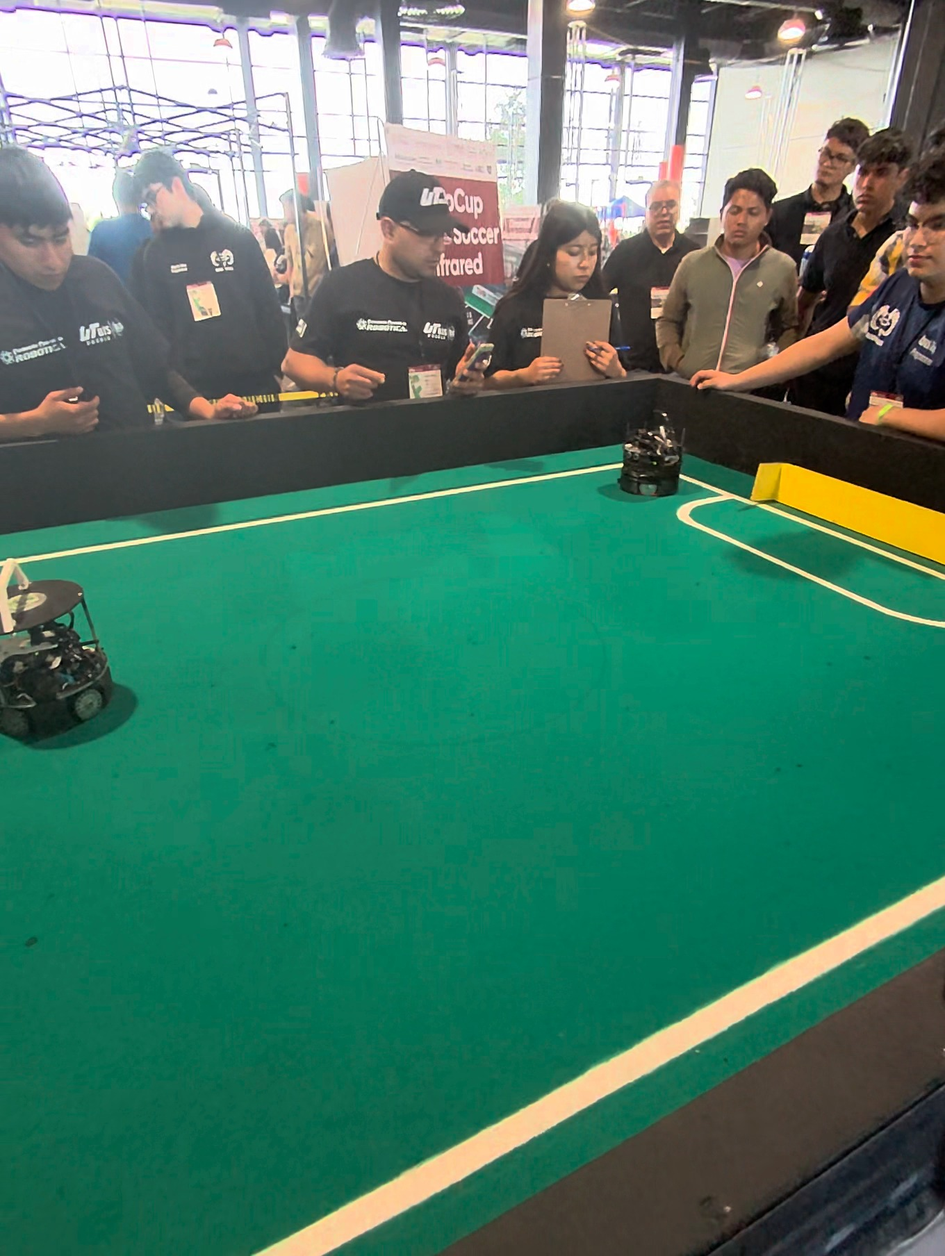Robot: (0, 566, 123, 754), (615, 396, 685, 504)
